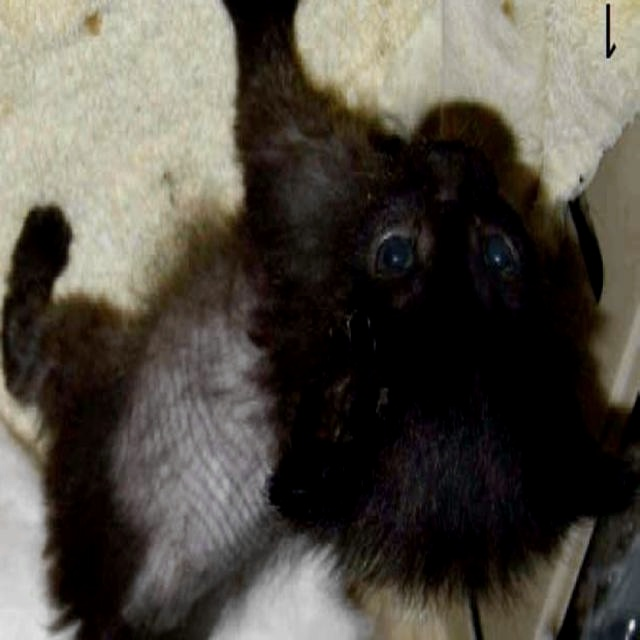hairloss: (119, 284, 279, 584)
